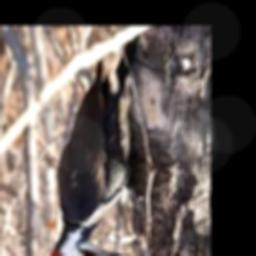Woodpecker: (44, 37, 134, 256)
